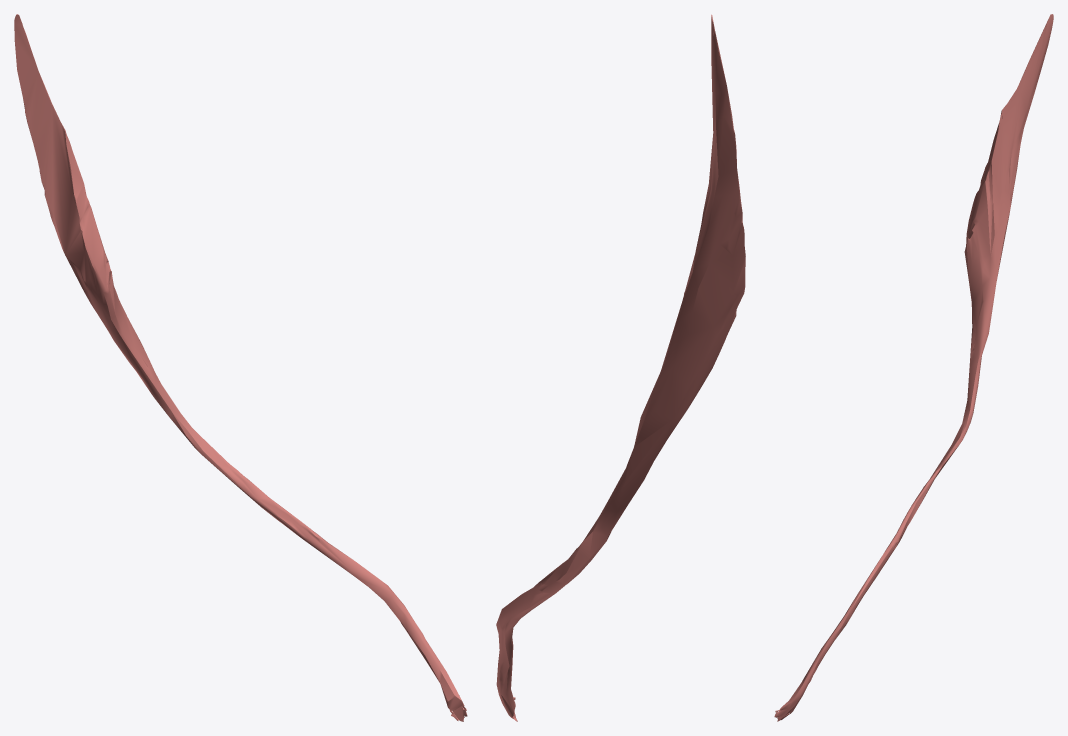
Rendered from fma38523_fj1495m.glb.
The picture shows the model from 3 angles, left to right: view 1: azimuth 30°, elevation 25°; view 2: azimuth 150°, elevation 25°; view 3: azimuth 270°, elevation 25°; orthographic projection. The views are drawn at different scales.
Parts seen in each view (by area): view 1: FMA38523_FJ1495M; view 2: FMA38523_FJ1495M; view 3: FMA38523_FJ1495M.
Part boxes in pixels (box(x1,y1,x2,y2)): FMA38523_FJ1495M: box(14, 14, 467, 721); FMA38523_FJ1495M: box(496, 14, 745, 721); FMA38523_FJ1495M: box(774, 14, 1053, 721).
Bounding box in the file's own units: 0.0948 × 0.2021 × 0.0877.
